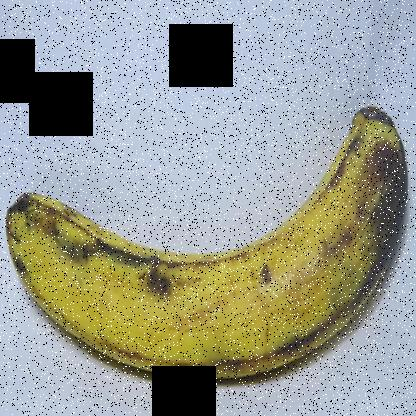ripe: (1, 88, 410, 371)
